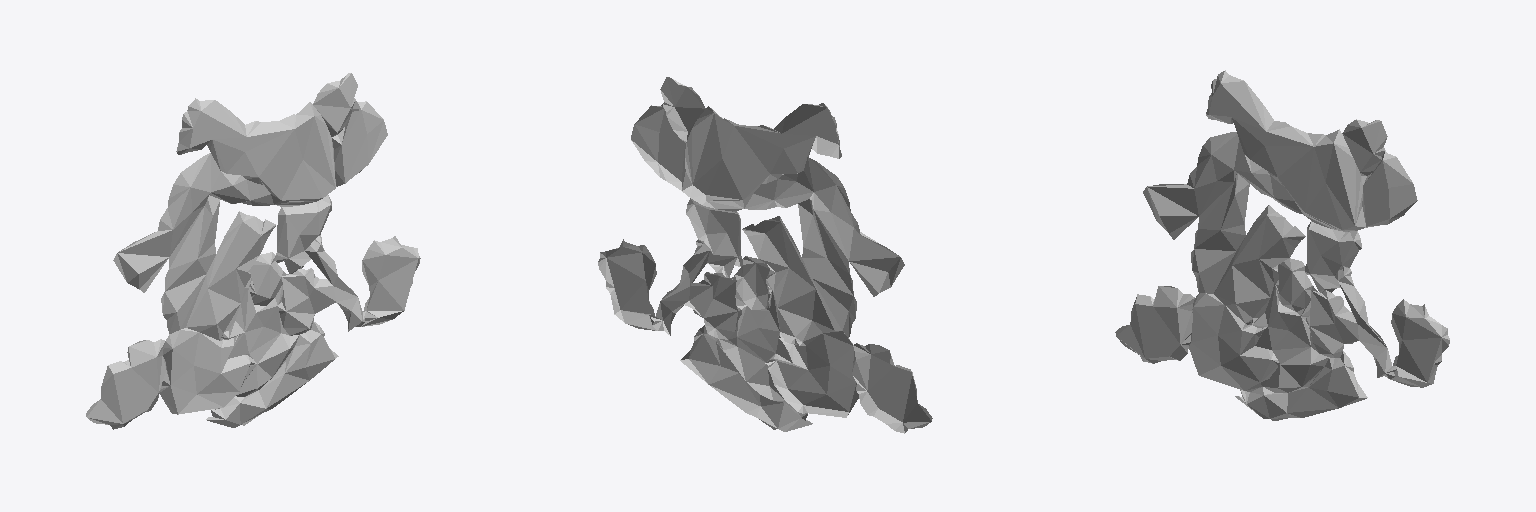
The model's file is clothing_pile3_f160fdae.obj.
3 views of the same model, side by side, from view 1: azimuth 30°, elevation 25°; view 2: azimuth 150°, elevation 25°; view 3: azimuth 330°, elevation 25° (orthographic).
Parts seen in each view (by area): view 1: clothing_pile3_alt; view 2: clothing_pile3_alt; view 3: clothing_pile3_alt.
Part boxes in pixels (bbox=[...]): clothing_pile3_alt: bbox=[86, 73, 420, 429]; clothing_pile3_alt: bbox=[598, 77, 932, 433]; clothing_pile3_alt: bbox=[1115, 70, 1449, 420].
Bounding box in the file's own units: 79.22 × 76.73 × 2.29.